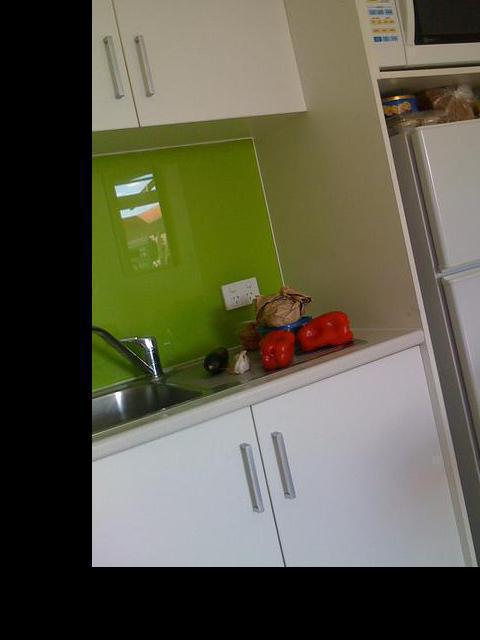Lavaplatos: (92, 321, 222, 446)
